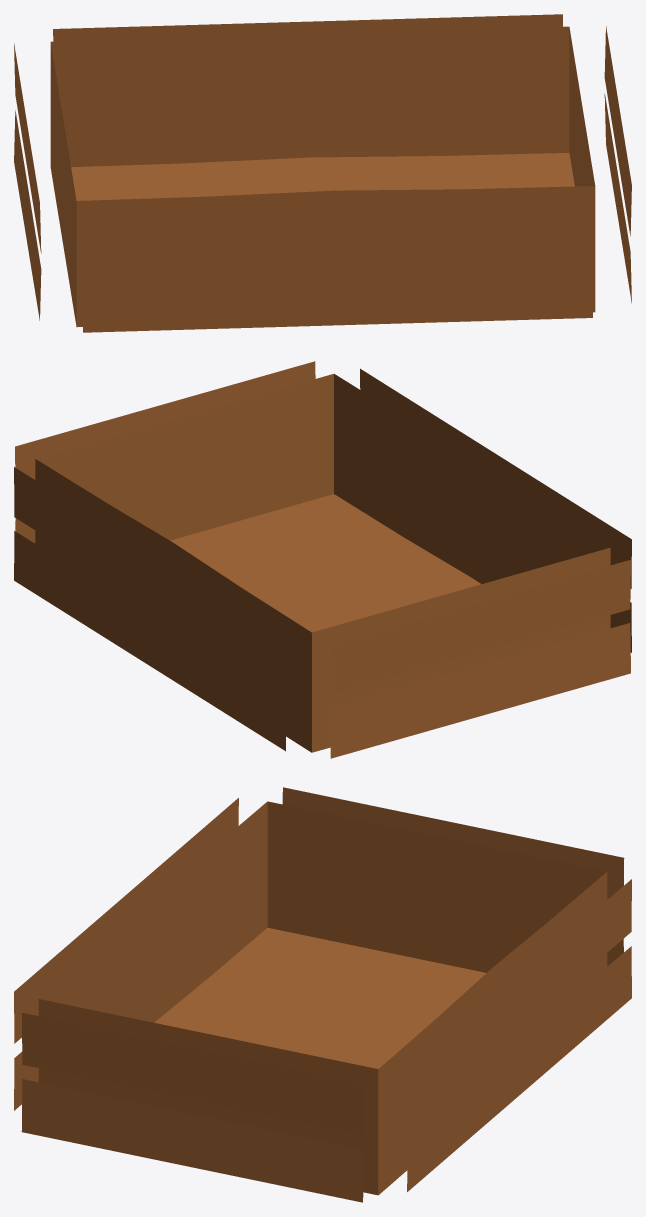
Rendered from n2_chest_bottom_light_brown_0_lev2.004.glb.
The picture shows the model from 3 angles, top to bottom: view 1: azimuth 30°, elevation 25°; view 2: azimuth 150°, elevation 25°; view 3: azimuth 270°, elevation 25°; orthographic projection. The views are drawn at different scales.
Visible parts, largest first — view 1: n2_chest_bottom_light_brown_0_lev2.004; view 2: n2_chest_bottom_light_brown_0_lev2.004; view 3: n2_chest_bottom_light_brown_0_lev2.004.
Boxes of the visible parts, x1,y1,x2,y2 form: n2_chest_bottom_light_brown_0_lev2.004: [14, 14, 631, 332]; n2_chest_bottom_light_brown_0_lev2.004: [14, 361, 631, 758]; n2_chest_bottom_light_brown_0_lev2.004: [14, 787, 631, 1202].
Size of the model in its own units: 1.92 by 0.3906 by 1.69.
